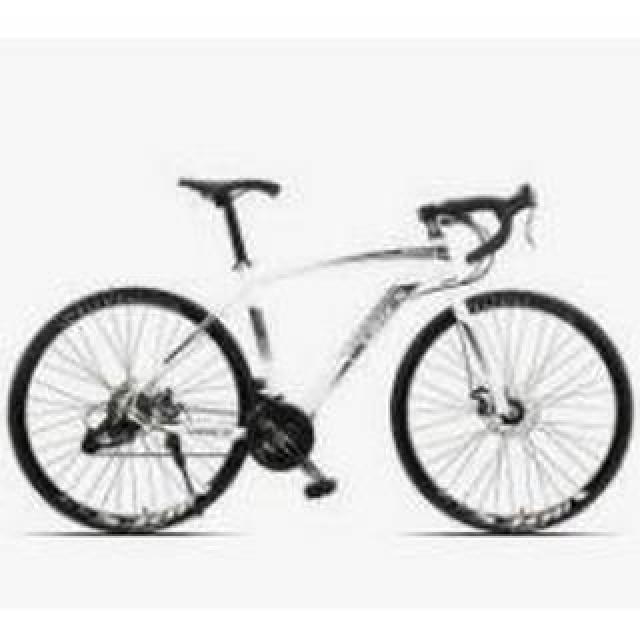Person: (9, 174, 637, 536)
